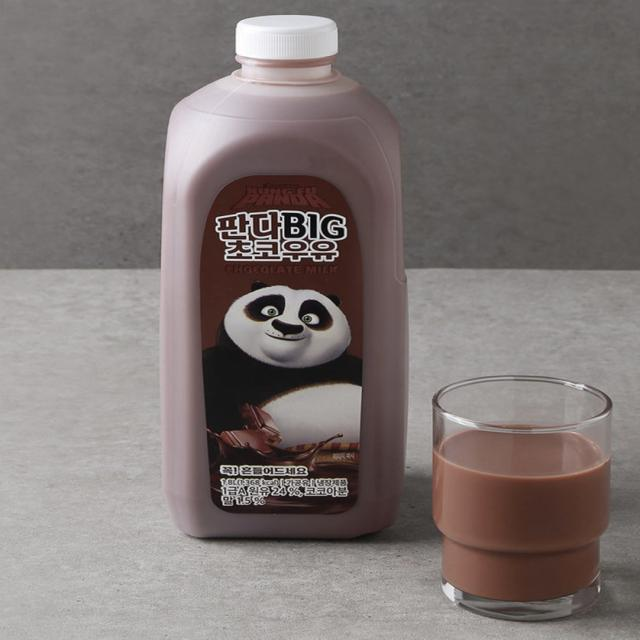recyclable: (131, 6, 454, 553), (396, 349, 630, 626)
